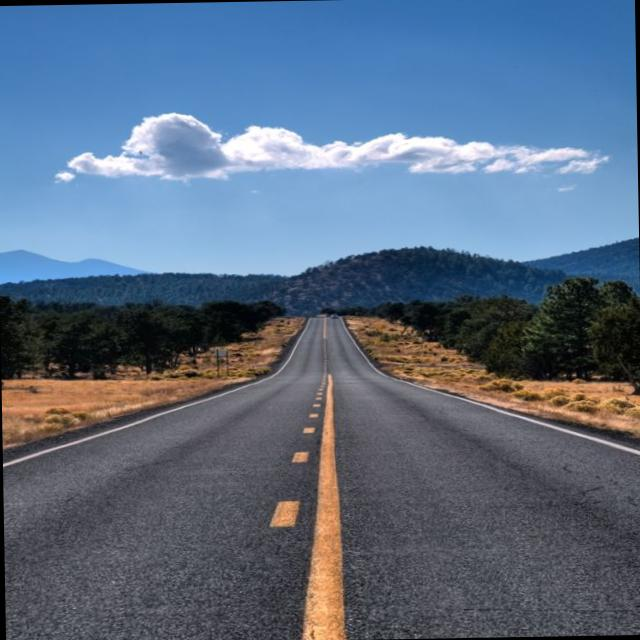asphalt: (2, 318, 640, 640)
